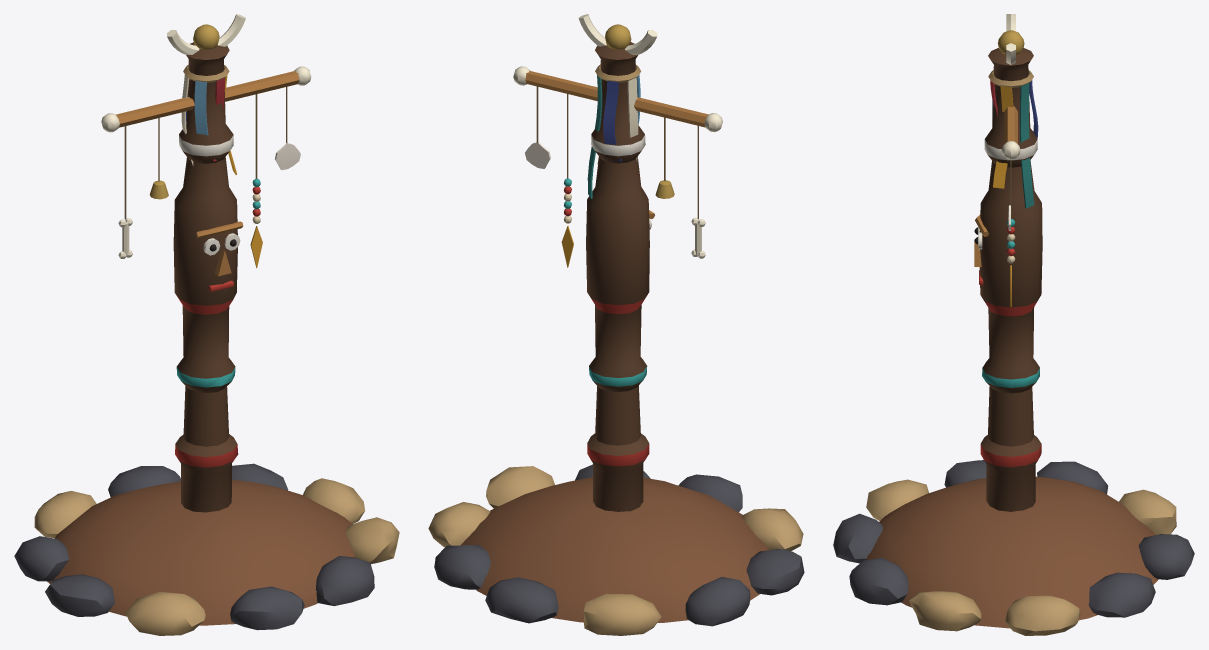
The model's file is deco_grave_pole.fbx.
The picture shows the model from 3 angles, left to right: view 1: azimuth 30°, elevation 25°; view 2: azimuth 150°, elevation 25°; view 3: azimuth 270°, elevation 25°; orthographic projection.
Parts seen in each view (by area): view 1: Grave_Pole_Mound, Grave_Pole_Pole, Grave_Pole_Trinkets, Grave_Pole_Ribbons; view 2: Grave_Pole_Mound, Grave_Pole_Pole, Grave_Pole_Trinkets, Grave_Pole_Ribbons; view 3: Grave_Pole_Mound, Grave_Pole_Pole, Grave_Pole_Ribbons, Grave_Pole_Trinkets.
Part boxes in pixels (box(x1,y1,x2,y2)): Grave_Pole_Mound: box(14, 463, 399, 635); Grave_Pole_Pole: box(101, 14, 311, 512); Grave_Pole_Trinkets: box(118, 87, 300, 267); Grave_Pole_Ribbons: box(181, 65, 236, 174); Grave_Pole_Mound: box(428, 464, 804, 635); Grave_Pole_Pole: box(513, 14, 722, 511); Grave_Pole_Trinkets: box(525, 86, 705, 267); Grave_Pole_Ribbons: box(587, 64, 641, 198); Grave_Pole_Mound: box(833, 460, 1194, 635); Grave_Pole_Pole: box(974, 14, 1042, 511); Grave_Pole_Ribbons: box(988, 70, 1038, 208); Grave_Pole_Trinkets: box(1007, 159, 1015, 306).
Size of the model in its own units: 201 by 306 by 189.
